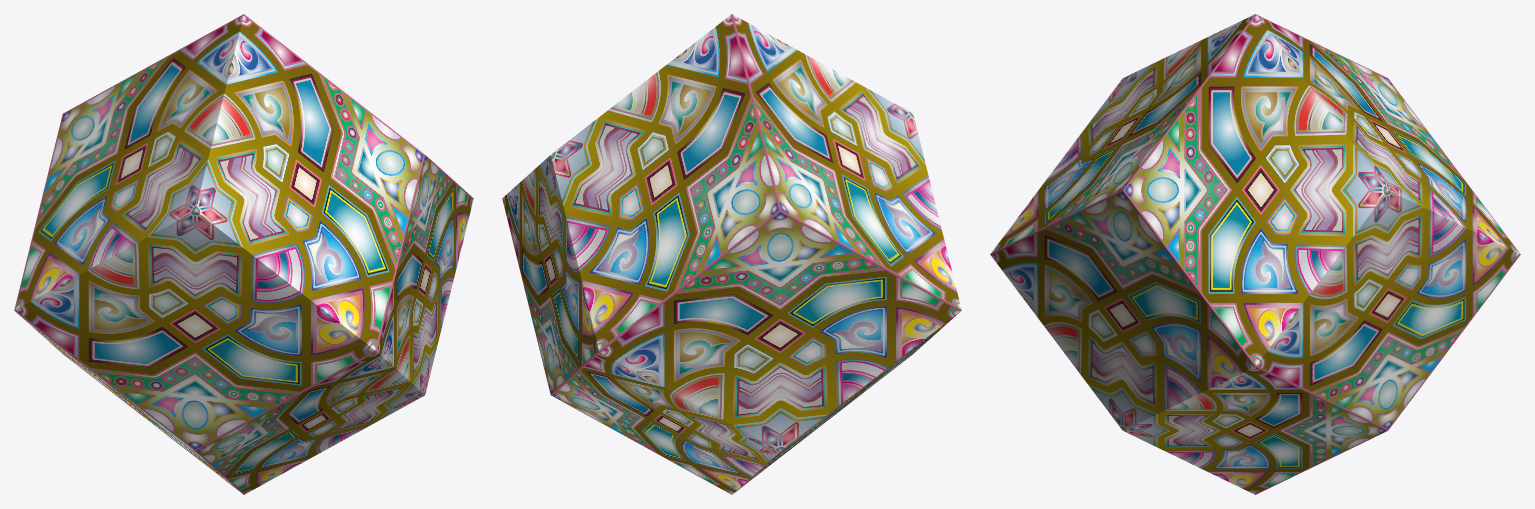
File: 6RhombicDodecahedron.obj
3 views of the same model, side by side, from view 1: azimuth 30°, elevation 25°; view 2: azimuth 150°, elevation 25°; view 3: azimuth 270°, elevation 25° (orthographic).
Bounding box in the file's own units: 2.12 × 2.12 × 2.12.
Materials: 1 (1 with a texture image).
